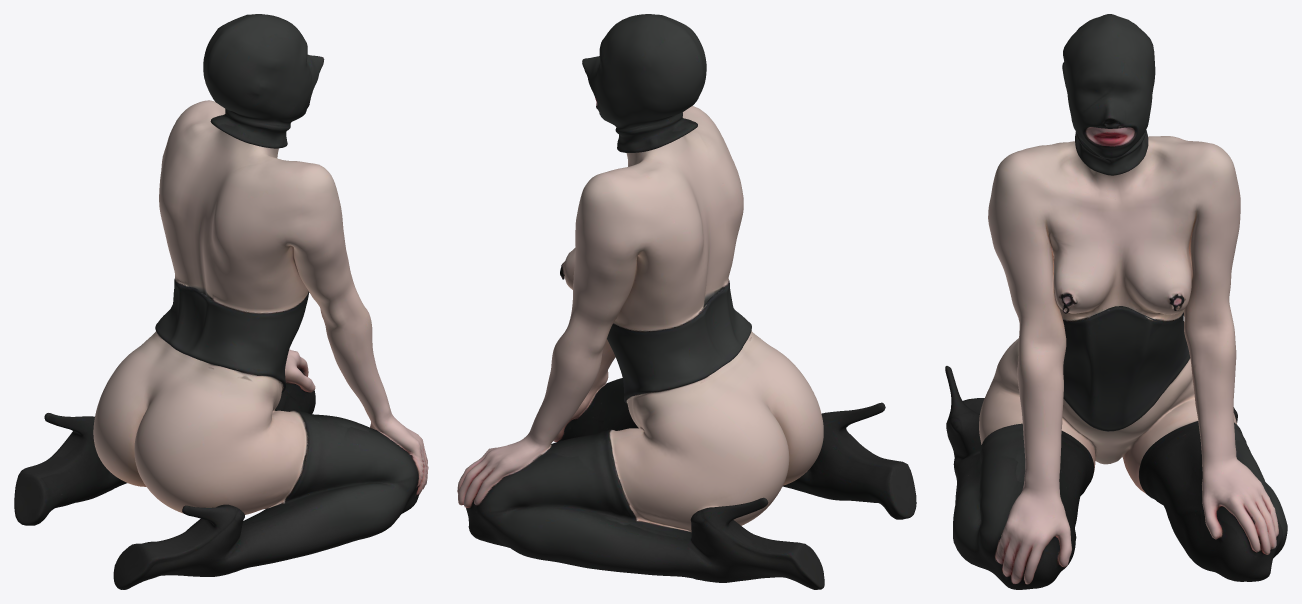
The picture shows the model from 3 angles, left to right: view 1: azimuth 30°, elevation 25°; view 2: azimuth 150°, elevation 25°; view 3: azimuth 270°, elevation 25°; orthographic projection. The views are drawn at different scales.
Parts seen in each view (by area): view 1: tripo_node_cc783c25-9998-48f4-8b2f-ea758c8f7015; view 2: tripo_node_cc783c25-9998-48f4-8b2f-ea758c8f7015; view 3: tripo_node_cc783c25-9998-48f4-8b2f-ea758c8f7015.
Part boxes in pixels (<box>): tripo_node_cc783c25-9998-48f4-8b2f-ea758c8f7015: <box>14,14,428,589</box>; tripo_node_cc783c25-9998-48f4-8b2f-ea758c8f7015: <box>457,14,916,589</box>; tripo_node_cc783c25-9998-48f4-8b2f-ea758c8f7015: <box>945,14,1287,589</box>.
Size of the model in its own units: 1.22 by 1.7 by 1.02.
Materials: 1 (1 with a texture image).
